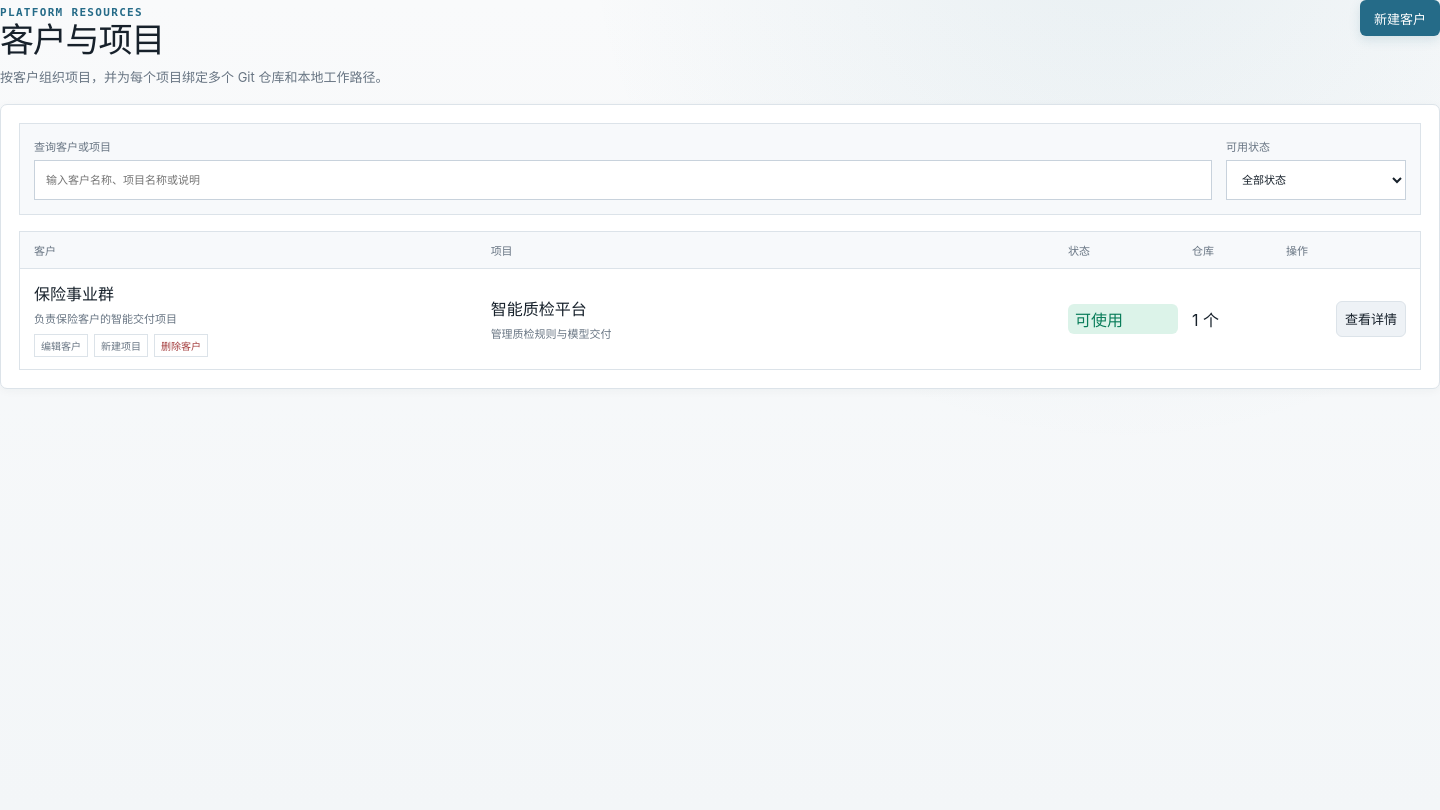
Test case: 平台资源配置 › 加载项目时只读取初始化状态，并由管理员显式应用标准交付预设
Click the button with aria-label "查看智能质检平台详情".
click(1371, 319)  # box [1336,301,1406,337]
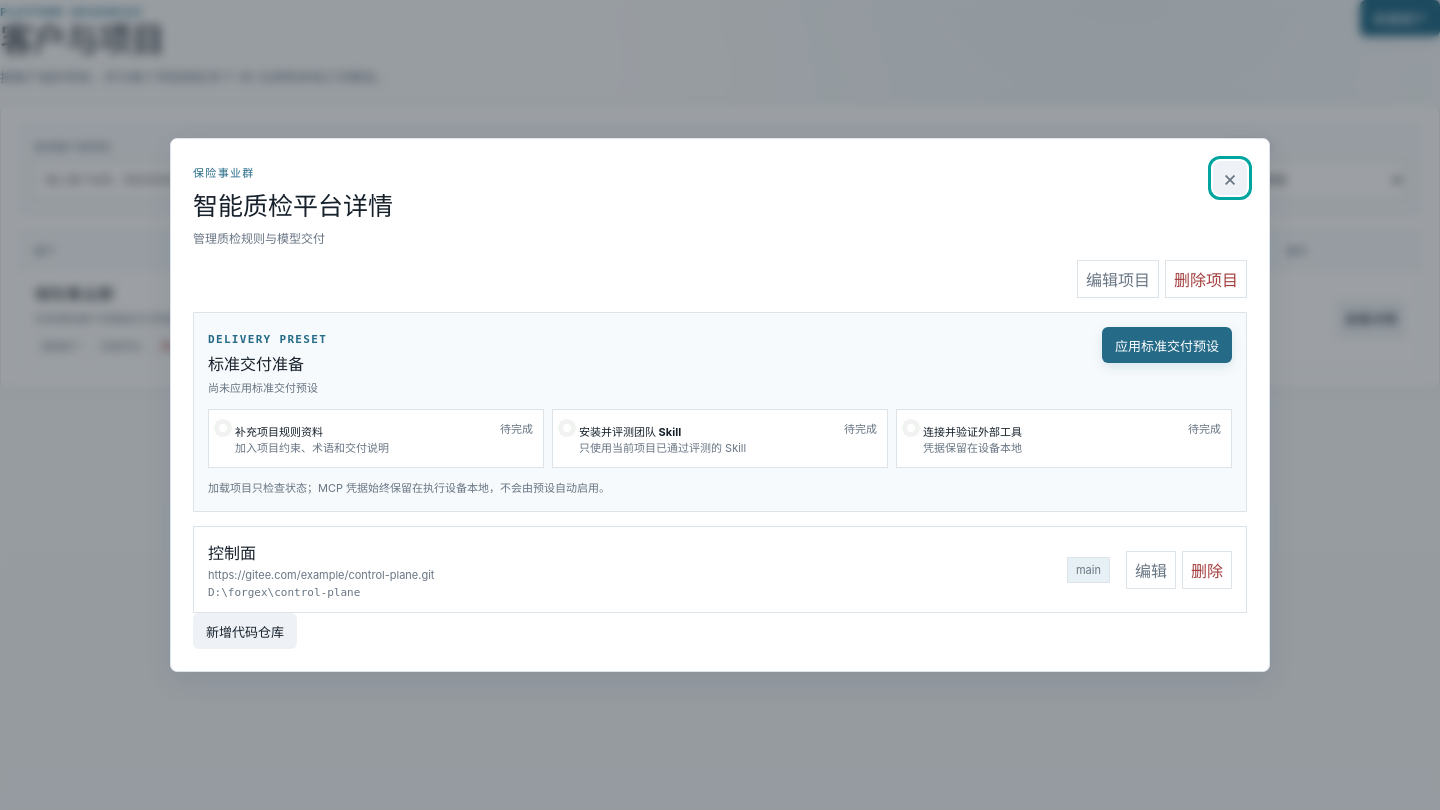
expect the heading "标准交付准备" is shown: met, box [208,354,304,374]
expect the text "补充项目规则资料" is shown: met, box [235,425,323,439]
expect the text "安装并评测团队 Skill" is shown: met, box [579,425,681,439]
Click the button "应用标准交付预设".
click(1167, 345)  # box [1102,327,1232,363]
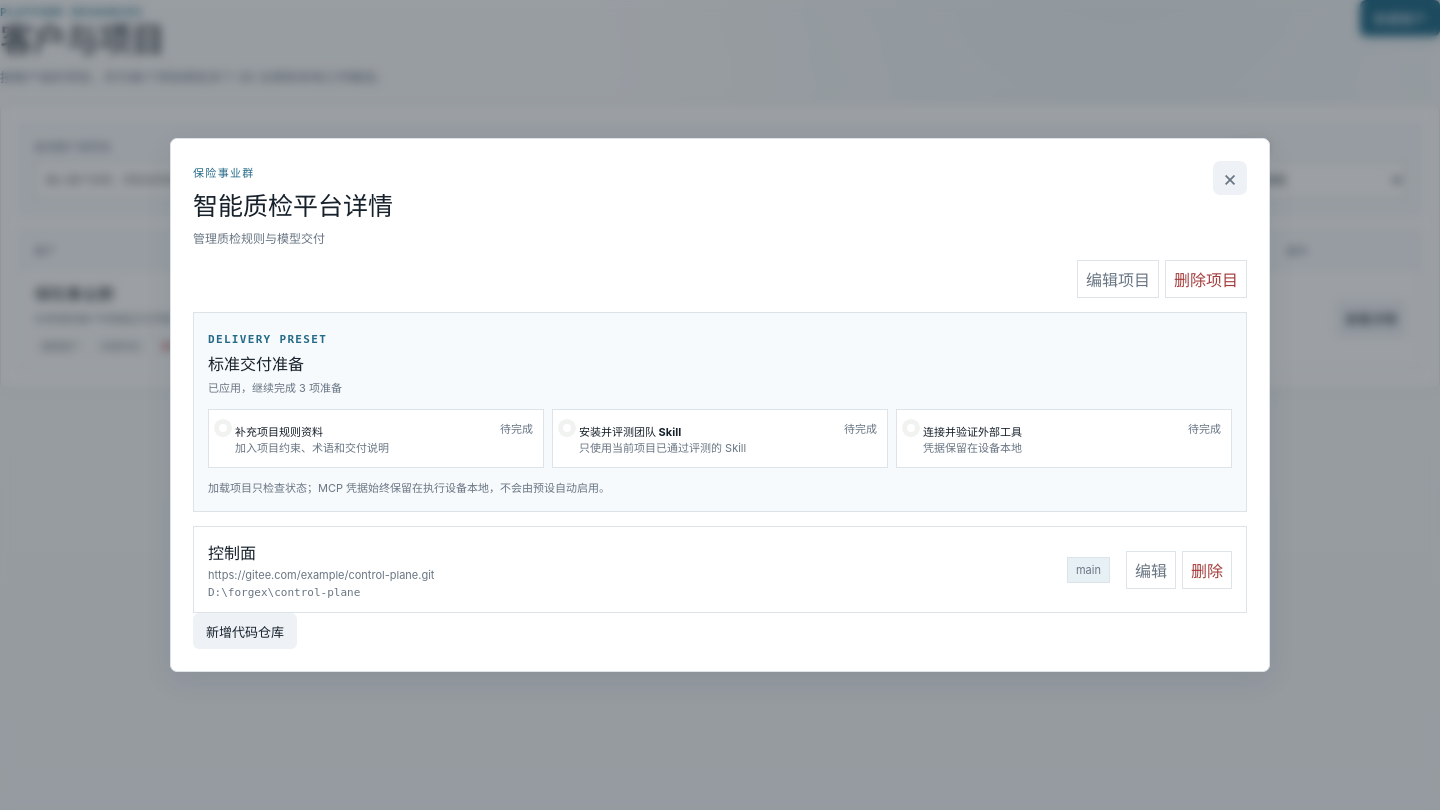
expect the text "已应用，继续完成 3 项准备" is shown: met, box [208,380,342,397]
